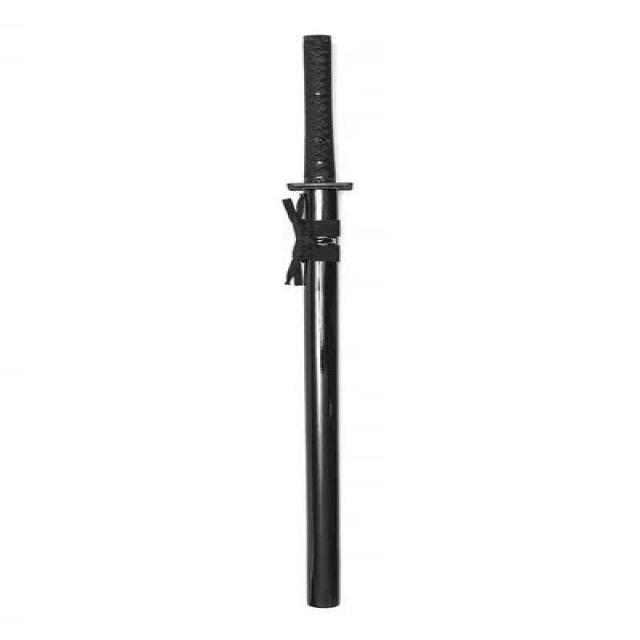Pole: (283, 35, 352, 597)
